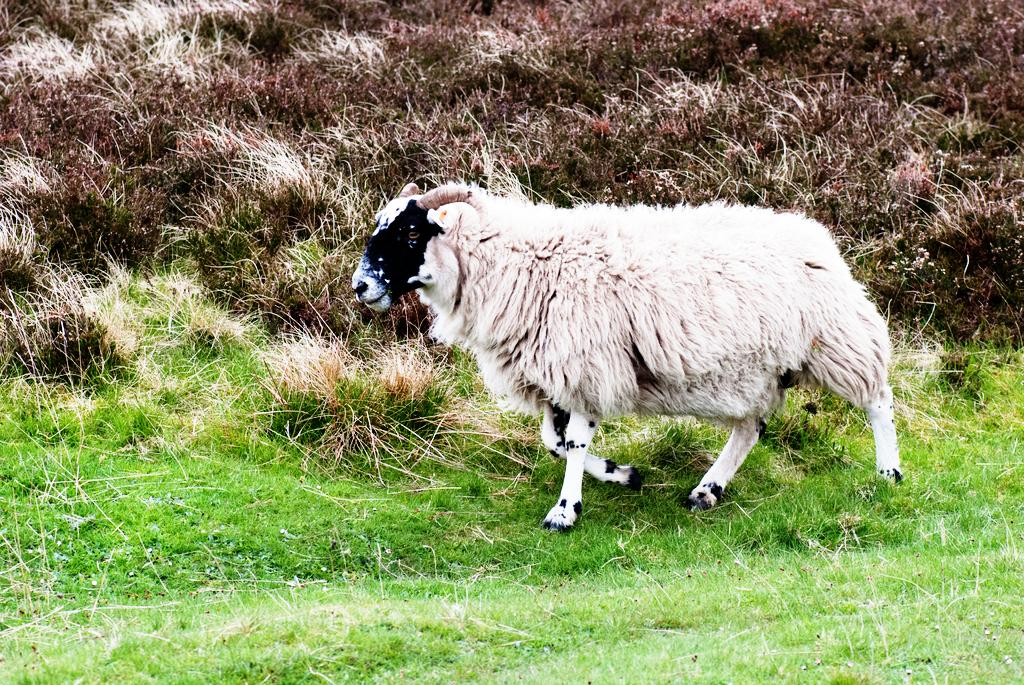Sheep: (348, 185, 898, 533)
